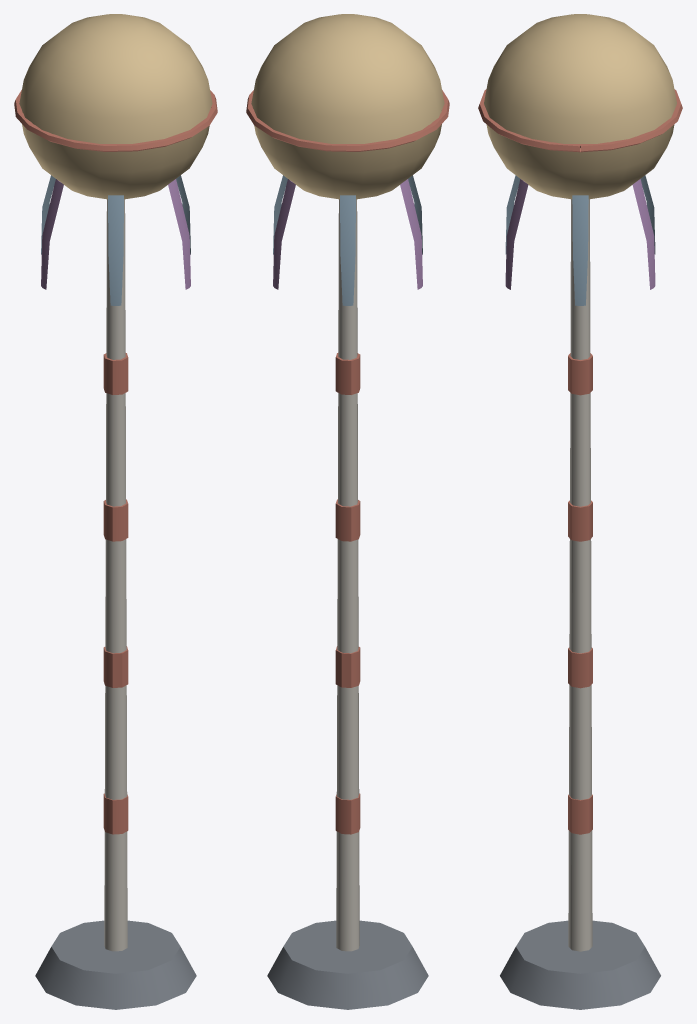
File: prop_sports_gourd-pole.glb
The picture shows the model from 3 angles, left to right: view 1: azimuth 30°, elevation 25°; view 2: azimuth 150°, elevation 25°; view 3: azimuth 270°, elevation 25°; orthographic projection.
Visible parts, largest first — view 1: gourd_pole; view 2: gourd_pole; view 3: gourd_pole.
Part boxes in pixels (x1,y1,x2,y2): gourd_pole: [14, 14, 217, 1009]; gourd_pole: [246, 14, 449, 1009]; gourd_pole: [478, 14, 682, 1009].
Size of the model in its own units: 0.7602 by 3.91 by 0.7604.
